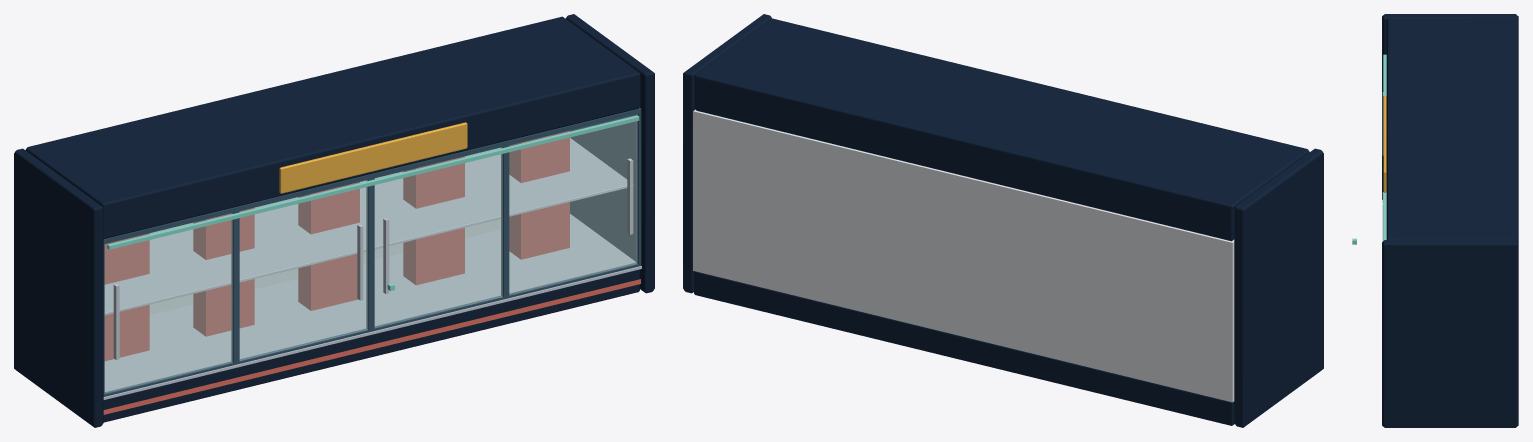
Rendered from CM_Fixture_DrinkCooler_Far.fbx.
3 views of the same model, side by side, from view 1: azimuth 30°, elevation 25°; view 2: azimuth 150°, elevation 25°; view 3: azimuth 270°, elevation 25° (orthographic). The views are drawn at different scales.
Parts seen in each view (by area): view 1: Body, Glass; view 2: Body; view 3: Body.
Boxes of the visible parts, x1,y1,x2,y2 form: Body: [14, 14, 654, 427]; Glass: [104, 114, 637, 393]; Body: [683, 14, 1323, 427]; Body: [1382, 14, 1518, 427].
Bounding box in the file's own units: 24 × 7.3 × 9.
Materials: 2 (2 with a texture image).
